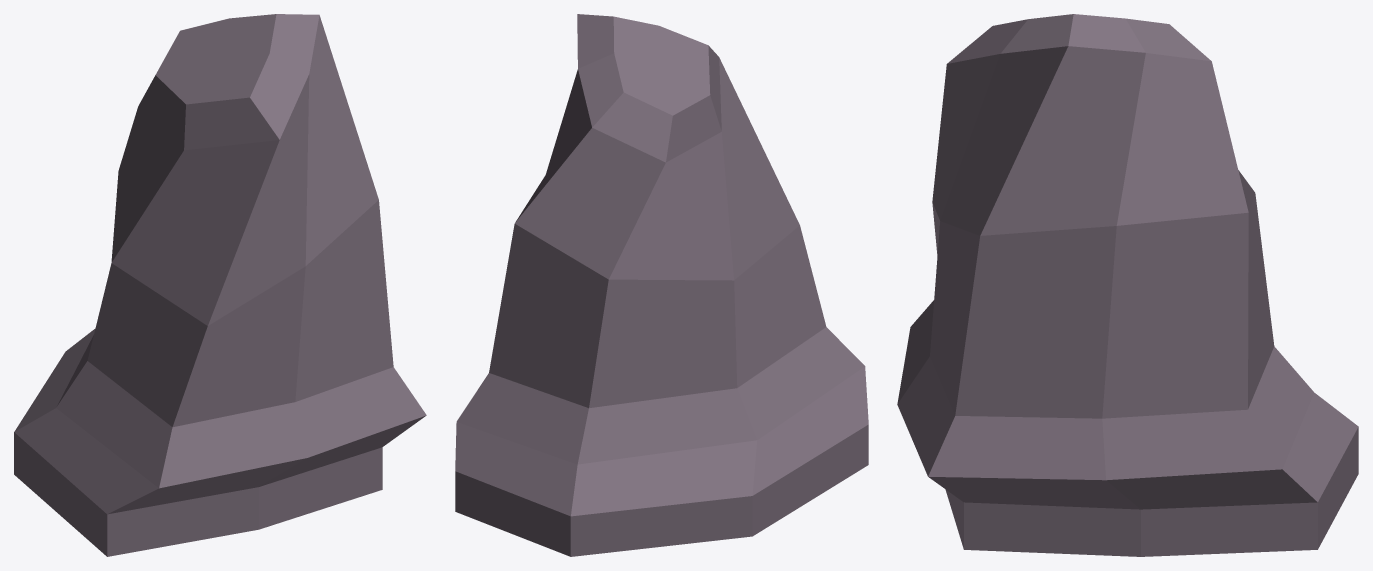
File: Rock_v14.fbx
3 renders of one model, left to right at view 1: azimuth 30°, elevation 25°; view 2: azimuth 150°, elevation 25°; view 3: azimuth 270°, elevation 25°, orthographic. The views are drawn at different scales.
Parts seen in each view (by area): view 1: Rock_v14; view 2: Rock_v14; view 3: Rock_v14.
Part boxes in pixels (x1,y1,x2,y2): Rock_v14: (14, 14, 426, 556); Rock_v14: (455, 14, 868, 556); Rock_v14: (897, 14, 1358, 556).
Size of the model in its own units: 23.46 by 32.83 by 27.18.
1 material, 1 textured.
